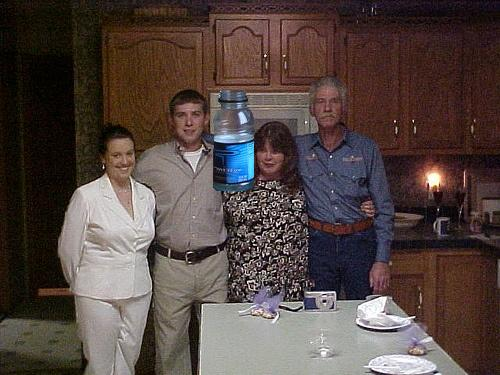tampered: (214, 91, 255, 191)
